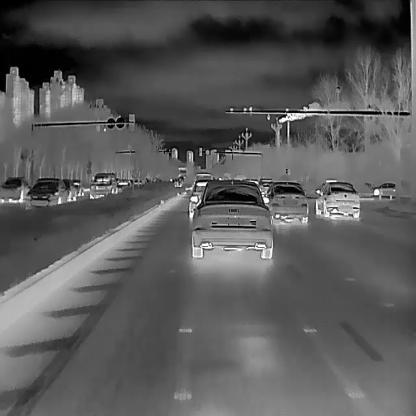car: (187, 176, 274, 259), (264, 181, 307, 225), (313, 179, 358, 219), (27, 178, 66, 206), (0, 176, 29, 202), (88, 172, 116, 198), (192, 172, 212, 199), (372, 181, 396, 197), (257, 179, 272, 197)
